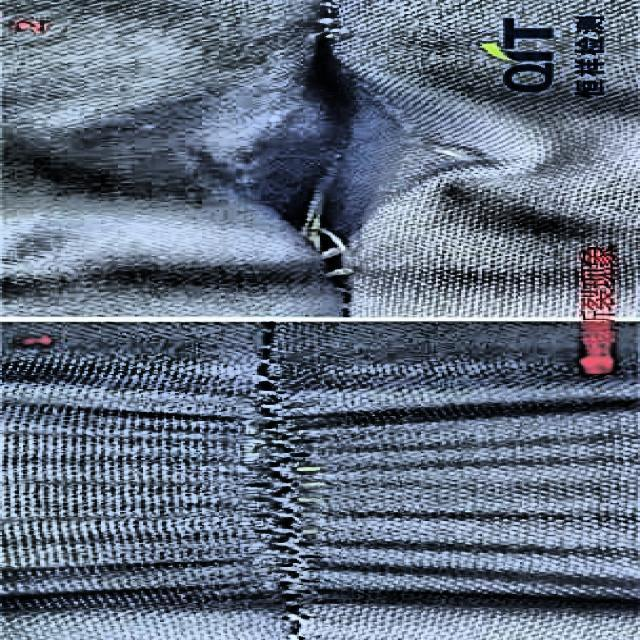cut: (168, 29, 506, 271)
gray stitch: (231, 389, 355, 630)
